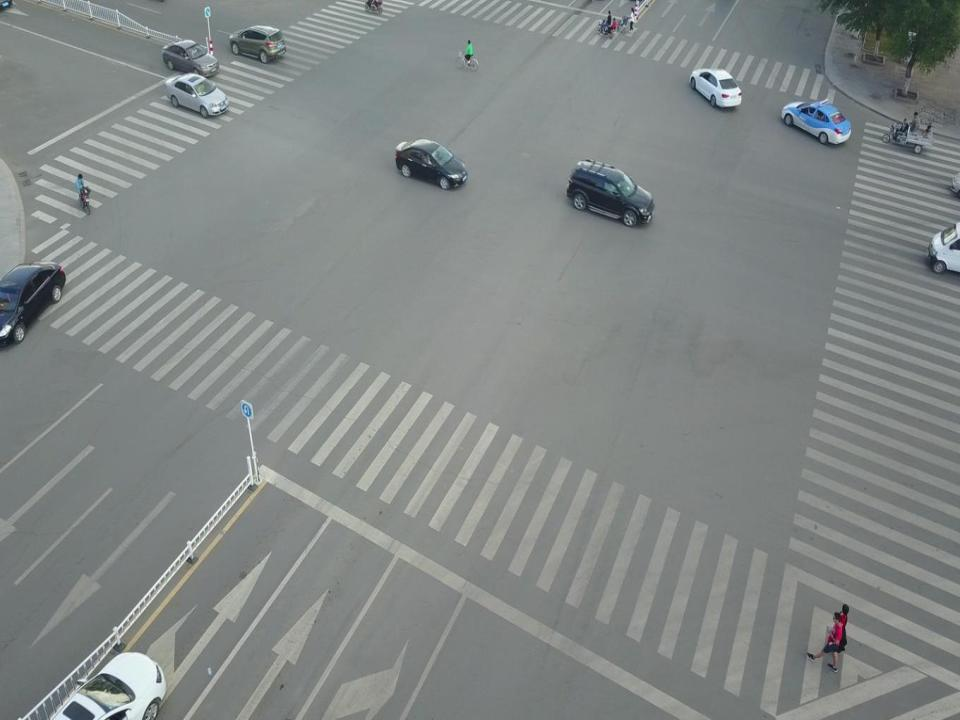car: (54, 651, 168, 720), (565, 158, 658, 230), (0, 260, 66, 349), (393, 135, 470, 195), (778, 99, 850, 149), (158, 70, 232, 118), (227, 22, 288, 68), (687, 62, 742, 108), (160, 37, 219, 78)
